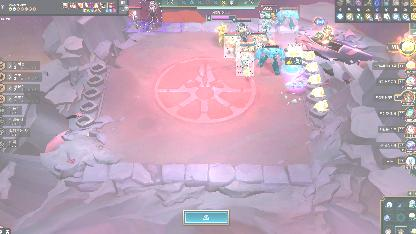1_kaisa: (259, 10, 275, 42)
1_volibear: (224, 34, 240, 58)
1_zac: (280, 7, 298, 31)
2_jax: (236, 42, 254, 76)
2_lillia: (140, 0, 162, 32)
2_nasus: (234, 18, 250, 42)
2_seraphine: (246, 30, 266, 48)
2_zac: (260, 44, 282, 76)
